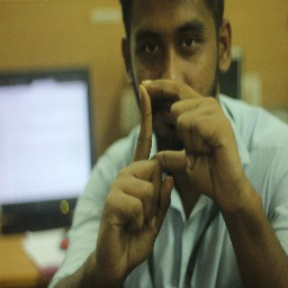D: (128, 77, 229, 202)
